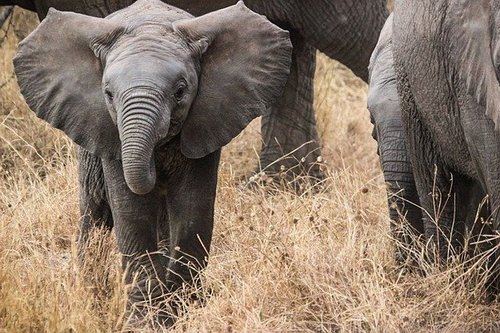elephant: (13, 4, 292, 324)
